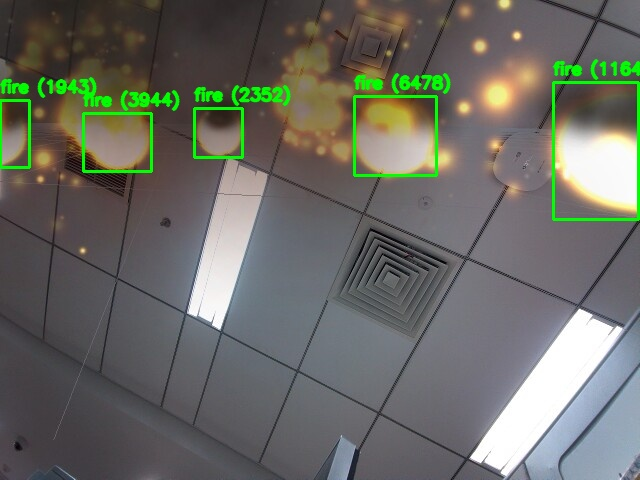fire: (553, 82, 638, 219), (354, 96, 436, 175), (83, 113, 151, 171), (194, 108, 242, 157), (0, 100, 29, 167)
